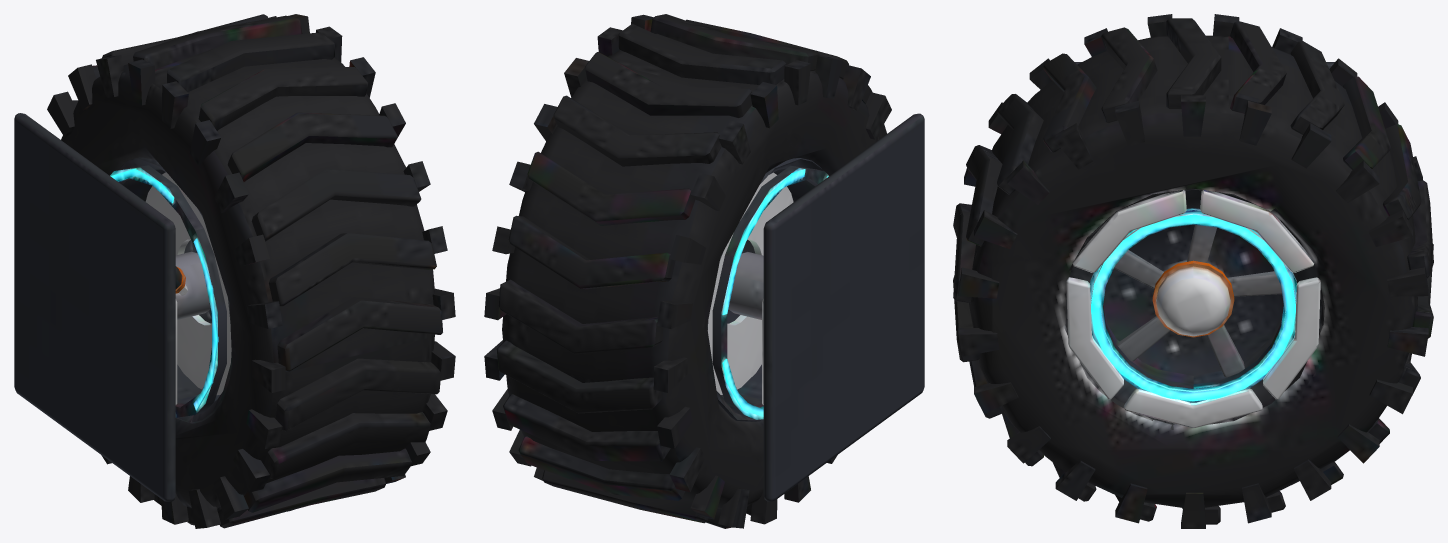
The model's file is R4M_WheelM_Side_Offroad_LOD1.glb.
The picture shows the model from 3 angles, left to right: view 1: azimuth 30°, elevation 25°; view 2: azimuth 150°, elevation 25°; view 3: azimuth 270°, elevation 25°; orthographic projection.
Visible parts, largest first — view 1: R4M_WheelM_Side_Offroad_LOD1; view 2: R4M_WheelM_Side_Offroad_LOD1; view 3: R4M_WheelM_Side_Offroad_LOD1.
Boxes of the visible parts, left/top/right/bottom form: R4M_WheelM_Side_Offroad_LOD1: left=14, top=14, right=455, bottom=528; R4M_WheelM_Side_Offroad_LOD1: left=484, top=14, right=924, bottom=528; R4M_WheelM_Side_Offroad_LOD1: left=953, top=14, right=1433, bottom=528.
Bounding box in the file's own units: 0.451 × 0.772 × 0.7755.
4 materials, 4 textured.
